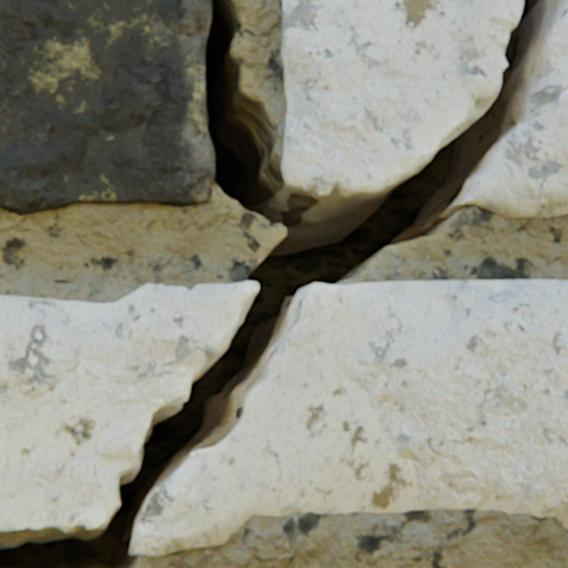brick: (0, 0, 214, 215)
broken_brick: (133, 279, 567, 555), (0, 280, 258, 530), (281, 0, 522, 197), (455, 0, 567, 217)
crack: (0, 0, 565, 567), (190, 288, 195, 297)
